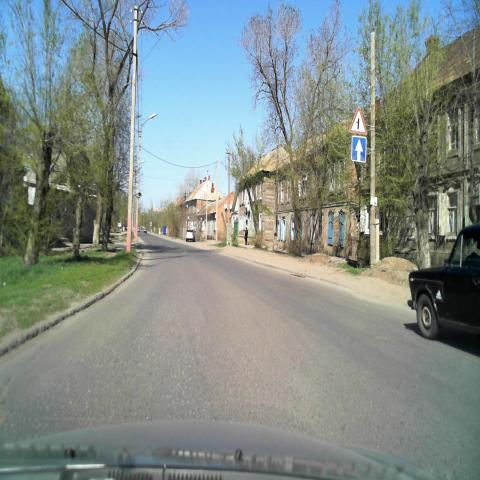2_3_3: (349, 106, 367, 134)
5_5: (351, 136, 367, 164)
